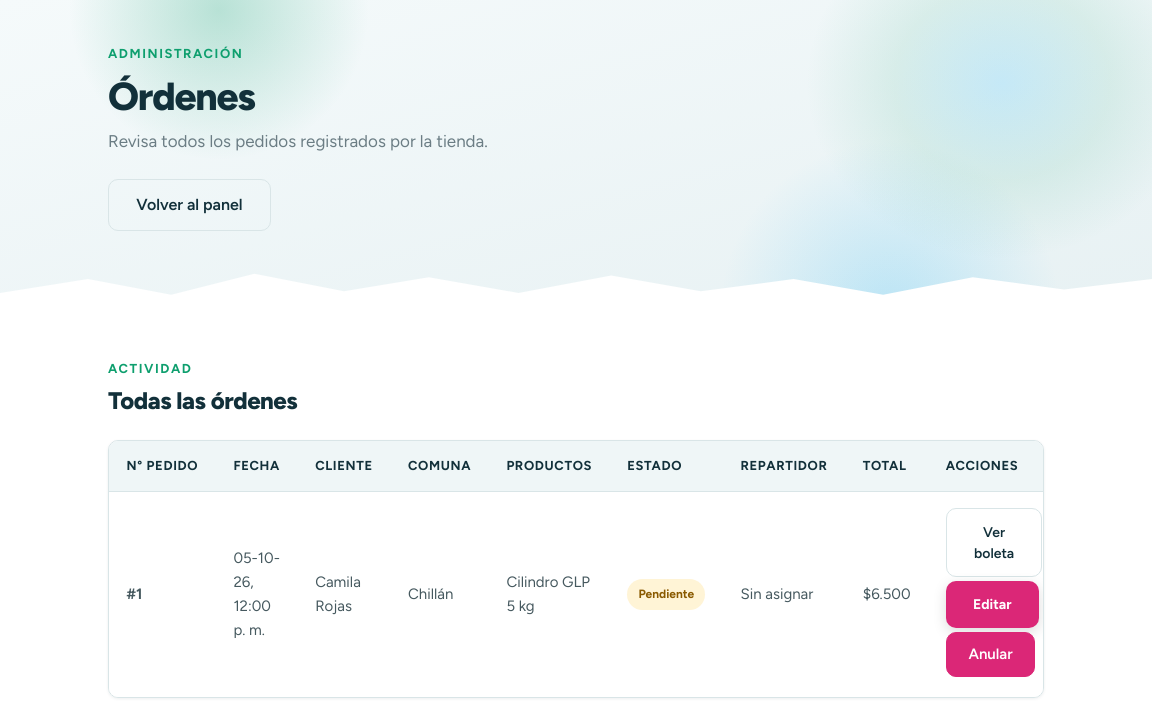
Pedidos HTTP: seguridad y recuperación sin rediseño › un doble submit bloquea inmediatamente la consulta y el PUT
Click the button "Editar": (992, 605) [946,581,1039,628]
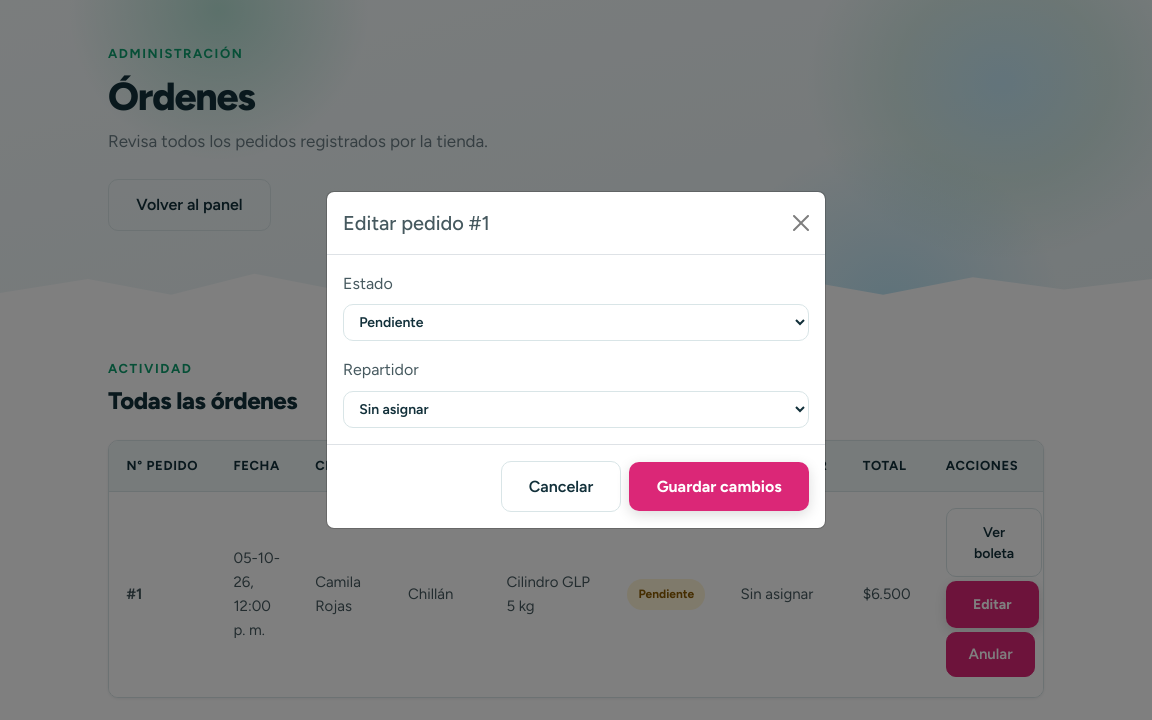
Select "Matías Vera - Repartidor" in the dropdown labelled "Repartidor": (576, 409) [343,391,809,428]
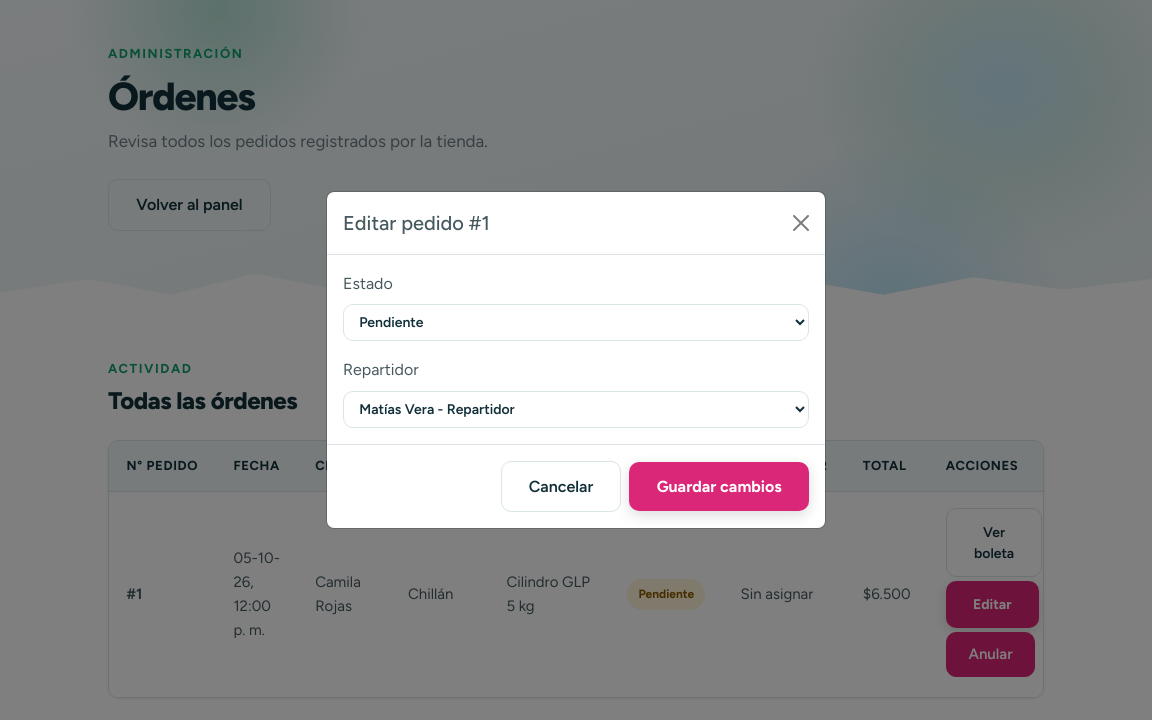
Submit the form, box [327,255,825,528]
Submit the form, box [327,255,825,528]
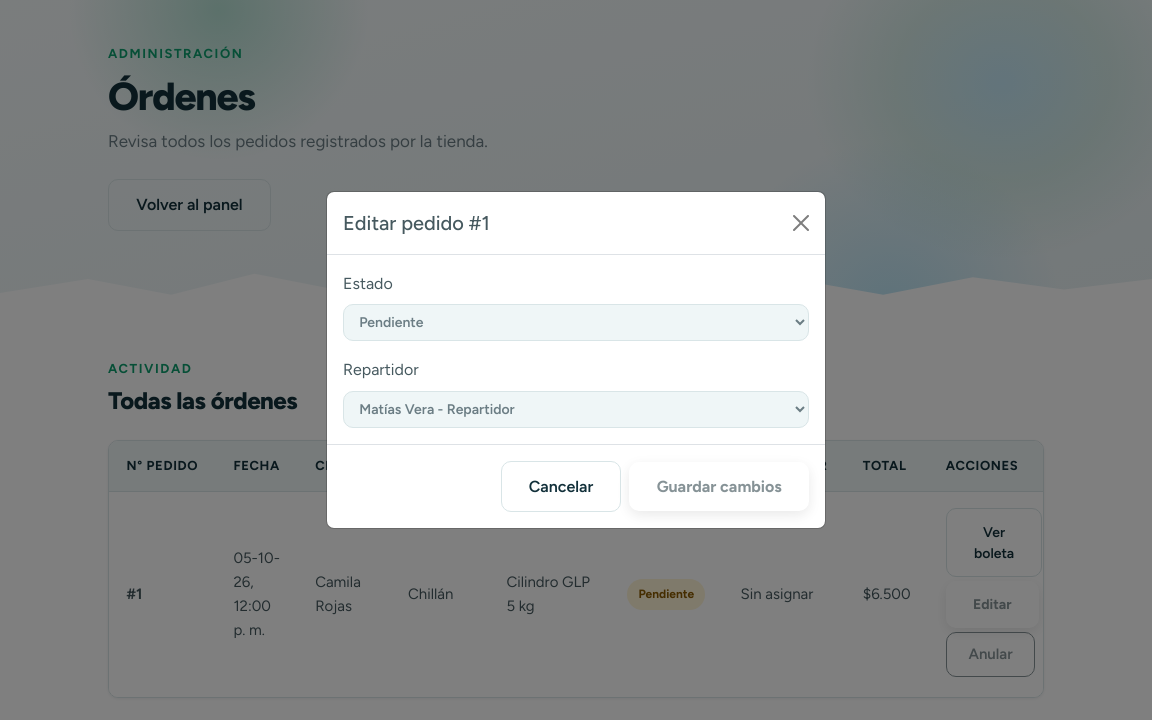
Result: the button "Guardar cambios" is disabled at [629,462,809,511]
Submit the form, box [327,255,825,528]
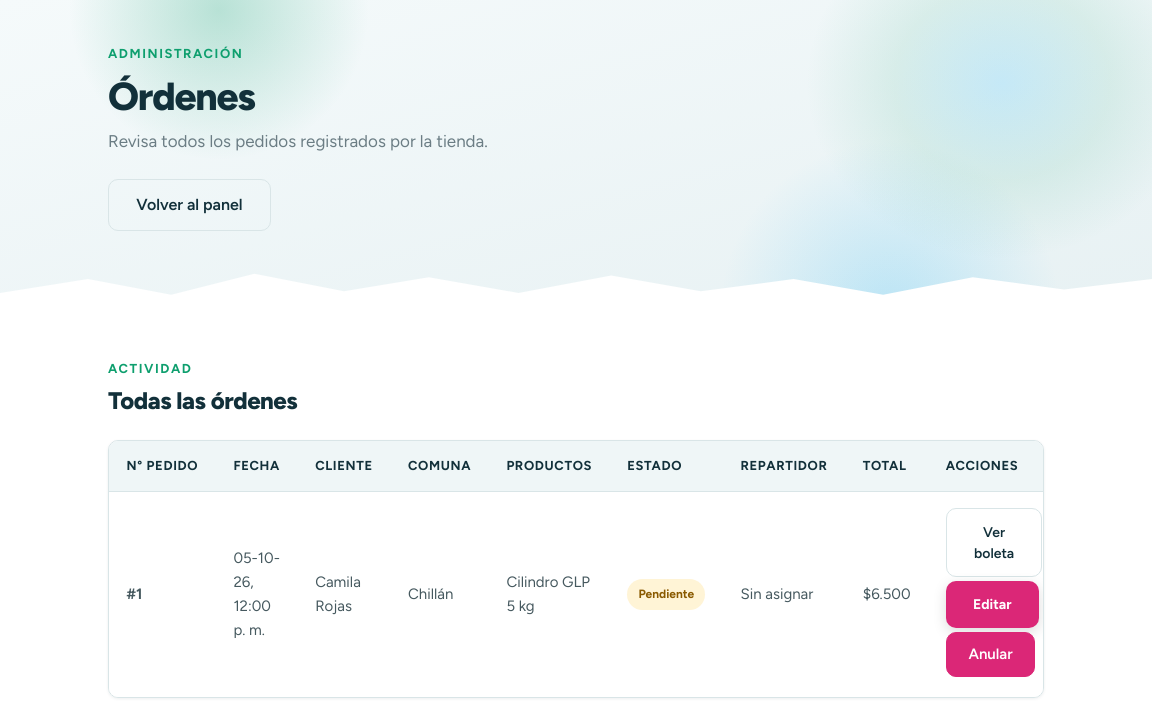
Result: the dialog is gone
